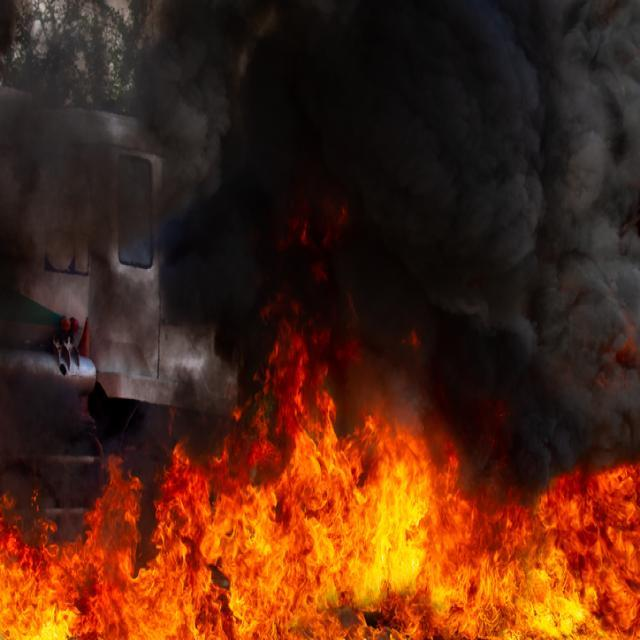Fire: (0, 366, 640, 636)
Smoke: (25, 0, 632, 396)
